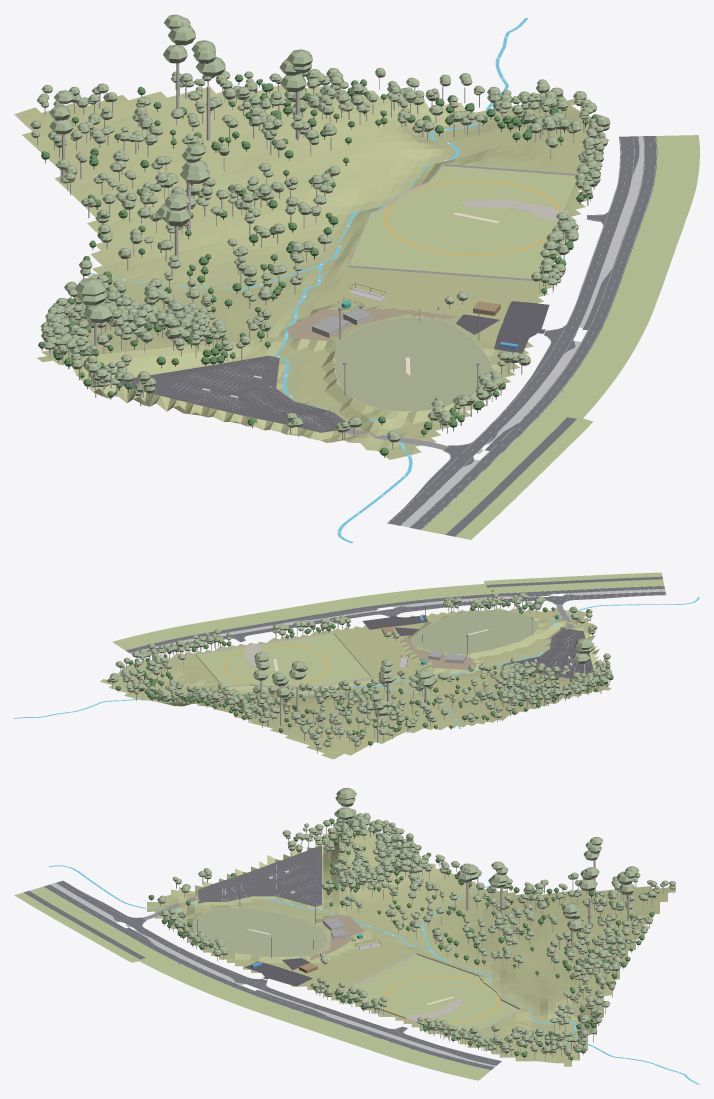
The model's file is KHFR_stage2_summer.glb.
3 views of the same model, one above another, from view 1: azimuth 30°, elevation 25°; view 2: azimuth 150°, elevation 25°; view 3: azimuth 270°, elevation 25° (orthographic). The views are drawn at different scales.
Visible parts, largest first — view 1: Reserve terrain, Bushland forest (euc_can), Road reserve (far verge), field N flatgrass, Bush planting zones (euc_can), Existing Ground 1 (worn turf), New car park (~220), Swansea Rd NE-bound (surveyed both edges), Giant eucalypts (canopies), Swansea Rd SW-bound (2 lanes, smooth), Tennis precinct bush retained (euc_can), Bushland forest (wat_can) (+14 smaller); view 2: Reserve terrain, Bushland forest (euc_can), Road reserve (far verge), field N flatgrass, Bush planting zones (euc_can), Existing Ground 1 (worn turf), Giant eucalypts (canopies), Swansea Rd SW-bound (2 lanes, smooth), Tennis precinct bush retained (euc_can), Swansea Rd NE-bound (surveyed both edges), New car park (~220), Bushland forest (wat_can) (+11 smaller); view 3: Reserve terrain, Bushland forest (euc_can), Road reserve (far verge), field N flatgrass, Bush planting zones (euc_can), Existing Ground 1 (worn turf), New car park (~220), Swansea Rd NE-bound (surveyed both edges), Giant eucalypts (canopies), Tennis precinct bush retained (euc_can), Swansea Rd SW-bound (2 lanes, smooth), Bushland forest (wat_can) (+13 smaller).
Boxes of the visible parts, x1=… form: Reserve terrain: x1=14, y1=85, x2=609, y2=459; Bushland forest (euc_can): x1=30, y1=71, x2=400, y2=442; Road reserve (far verge): x1=421, y1=135, x2=699, y2=539; field N flatgrass: x1=349, y1=166, x2=576, y2=279; Bush planting zones (euc_can): x1=202, y1=67, x2=610, y2=425; Existing Ground 1 (worn turf): x1=334, y1=317, x2=492, y2=411; New car park (~220): x1=120, y1=355, x2=353, y2=432; Swansea Rd NE-bound (surveyed both edges): x1=387, y1=136, x2=639, y2=525; Giant eucalypts (canopies): x1=49, y1=14, x2=312, y2=323; Swansea Rd SW-bound (2 lanes, smooth): x1=409, y1=136, x2=657, y2=529; Tennis precinct bush retained (euc_can): x1=40, y1=296, x2=233, y2=387; Bushland forest (wat_can): x1=41, y1=83, x2=388, y2=455; Reserve terrain: x1=100, y1=608, x2=611, y2=759; Bushland forest (euc_can): x1=199, y1=606, x2=611, y2=749; Road reserve (far verge): x1=112, y1=572, x2=664, y2=650; field N flatgrass: x1=196, y1=634, x2=370, y2=686; Bush planting zones (euc_can): x1=109, y1=592, x2=545, y2=718; Existing Ground 1 (worn turf): x1=412, y1=610, x2=538, y2=653; Giant eucalypts (canopies): x1=253, y1=638, x2=593, y2=715; Swansea Rd SW-bound (2 lanes, smooth): x1=126, y1=586, x2=664, y2=652; Tennis precinct bush retained (euc_can): x1=495, y1=661, x2=613, y2=703; Swansea Rd NE-bound (surveyed both edges): x1=131, y1=591, x2=666, y2=657; New car park (~220): x1=502, y1=627, x2=592, y2=678; Bushland forest (wat_can): x1=225, y1=609, x2=603, y2=745; Reserve terrain: x1=147, y1=824, x2=675, y2=1066; Bushland forest (euc_can): x1=157, y1=817, x2=676, y2=980; Road reserve (far verge): x1=14, y1=886, x2=490, y2=1080; field N flatgrass: x1=341, y1=954, x2=518, y2=1037; Bush planting zones (euc_can): x1=159, y1=908, x2=648, y2=1056; Existing Ground 1 (worn turf): x1=192, y1=908, x2=327, y2=957; New car park (~220): x1=198, y1=845, x2=321, y2=906; Swansea Rd NE-bound (surveyed both edges): x1=56, y1=880, x2=501, y2=1065; Giant eucalypts (canopies): x1=335, y1=788, x2=639, y2=931; Tennis precinct bush retained (euc_can): x1=295, y1=809, x2=416, y2=888; Swansea Rd SW-bound (2 lanes, smooth): x1=43, y1=884, x2=494, y2=1069; Bushland forest (wat_can): x1=148, y1=820, x2=654, y2=979.
Size of the model in its own units: 495 by 86.34 by 599.
